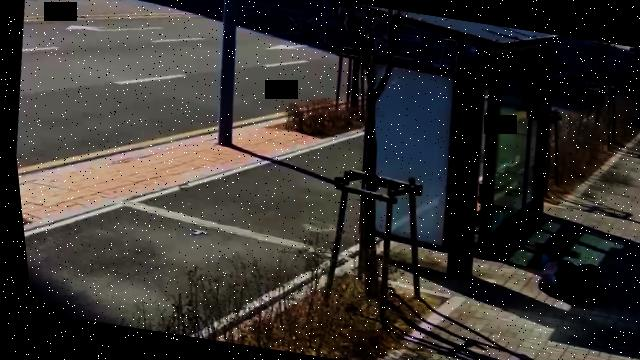fall: (525, 250, 602, 307)
